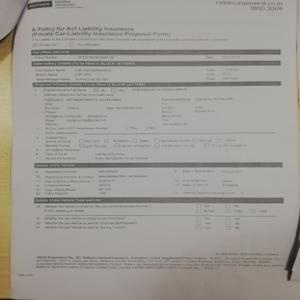table: (33, 161, 283, 197), (34, 197, 283, 231), (32, 60, 281, 82)
text: (28, 24, 230, 48)
